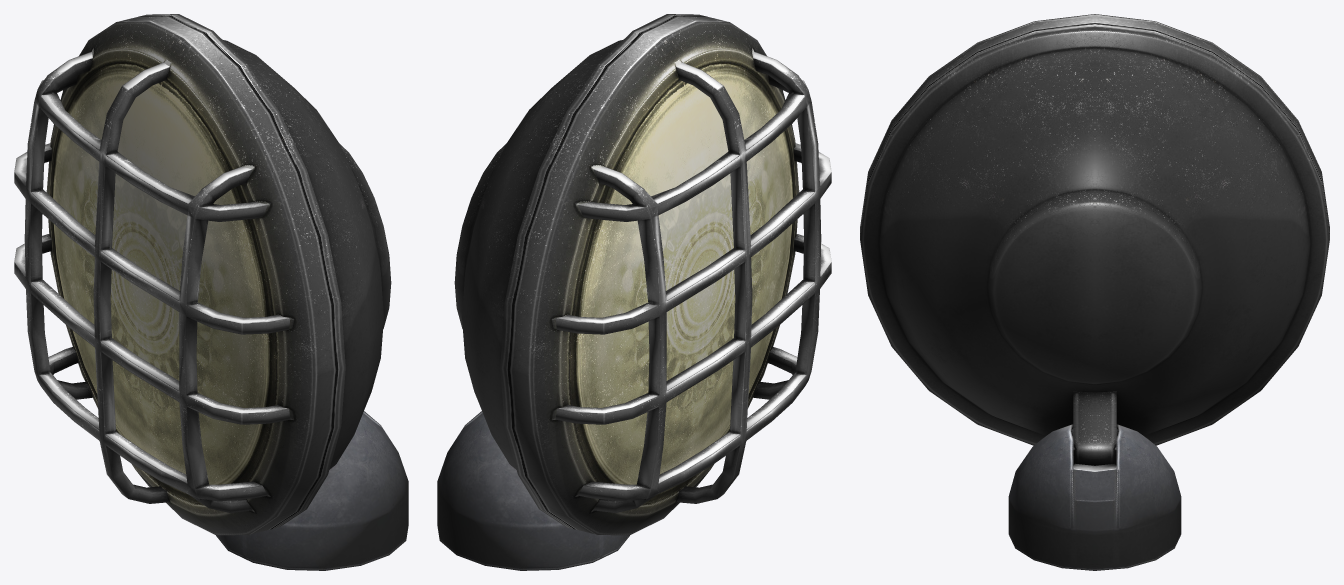
Rendered from headlight.dae.
3 views of the same model, side by side, from view 1: azimuth 30°, elevation 25°; view 2: azimuth 150°, elevation 25°; view 3: azimuth 270°, elevation 25° (orthographic). The views are drawn at different scales.
Visible parts, largest first — view 1: Spotlight; view 2: Spotlight; view 3: Spotlight.
Boxes of the visible parts, x1,y1,x2,y2 form: Spotlight: [14, 14, 408, 570]; Spotlight: [437, 14, 831, 570]; Spotlight: [860, 14, 1329, 570].
Bounding box in the file's own units: 0.0617 × 0.0943 × 0.1029.
Materials: 1 (1 with a texture image).
